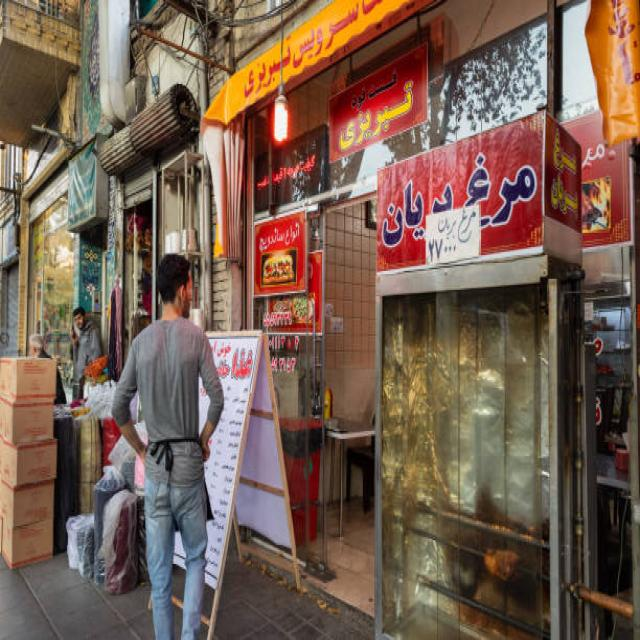Emperan: (170, 71, 640, 640)
